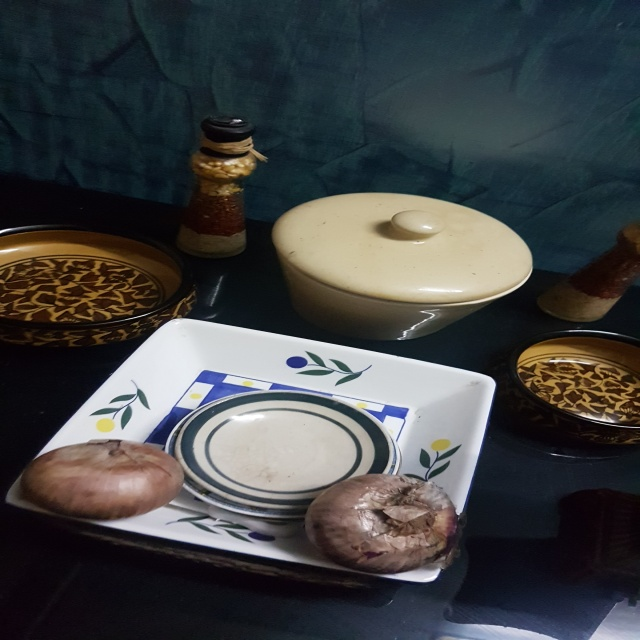onion: (308, 463, 467, 590), (23, 433, 196, 515)
